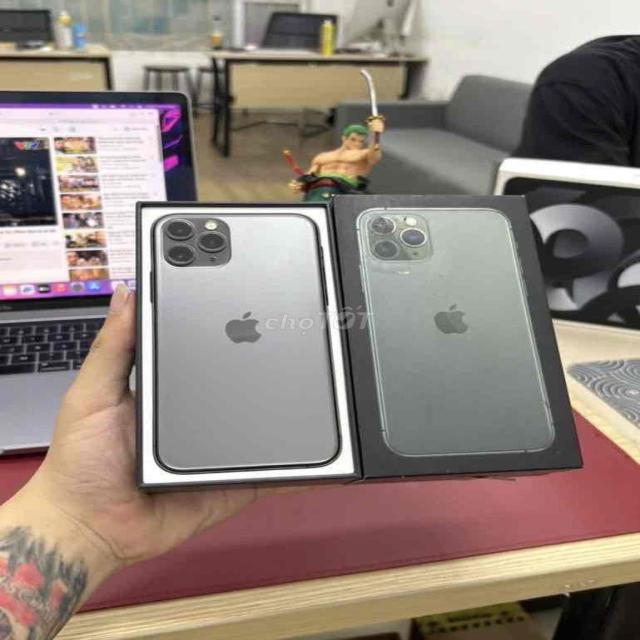gen_11: (140, 204, 366, 472)
